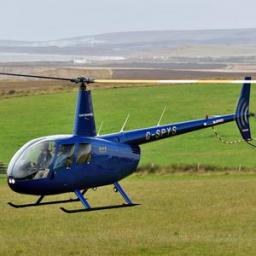helicopter: (2, 69, 256, 216)
